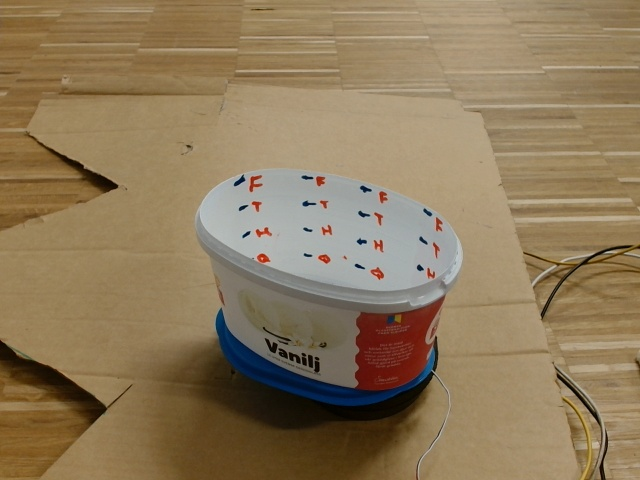Big_zero: (195, 162, 465, 313)
